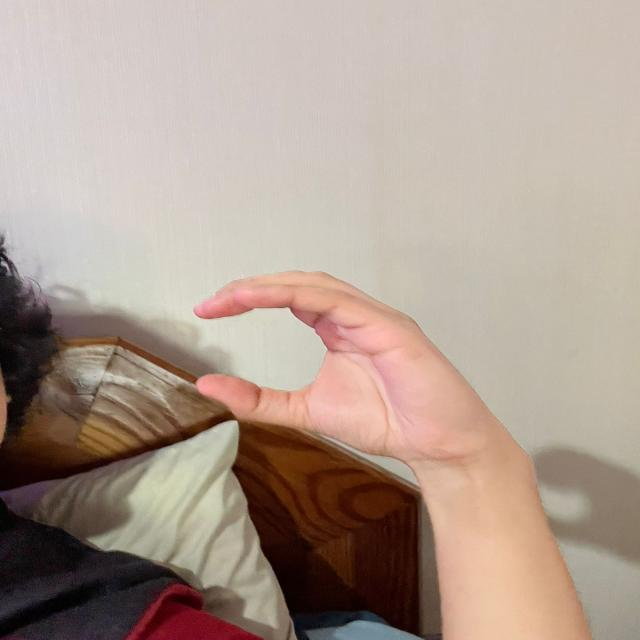C: (175, 256, 504, 477)
